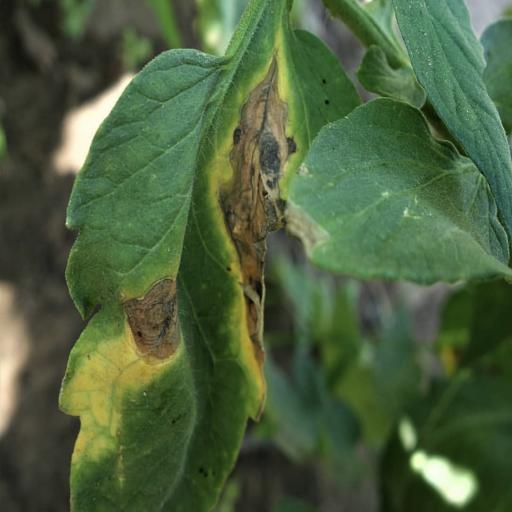disease_tomato: (58, 48, 302, 512)
